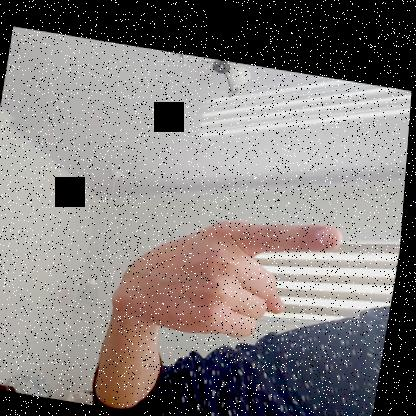G: (111, 187, 349, 352)
